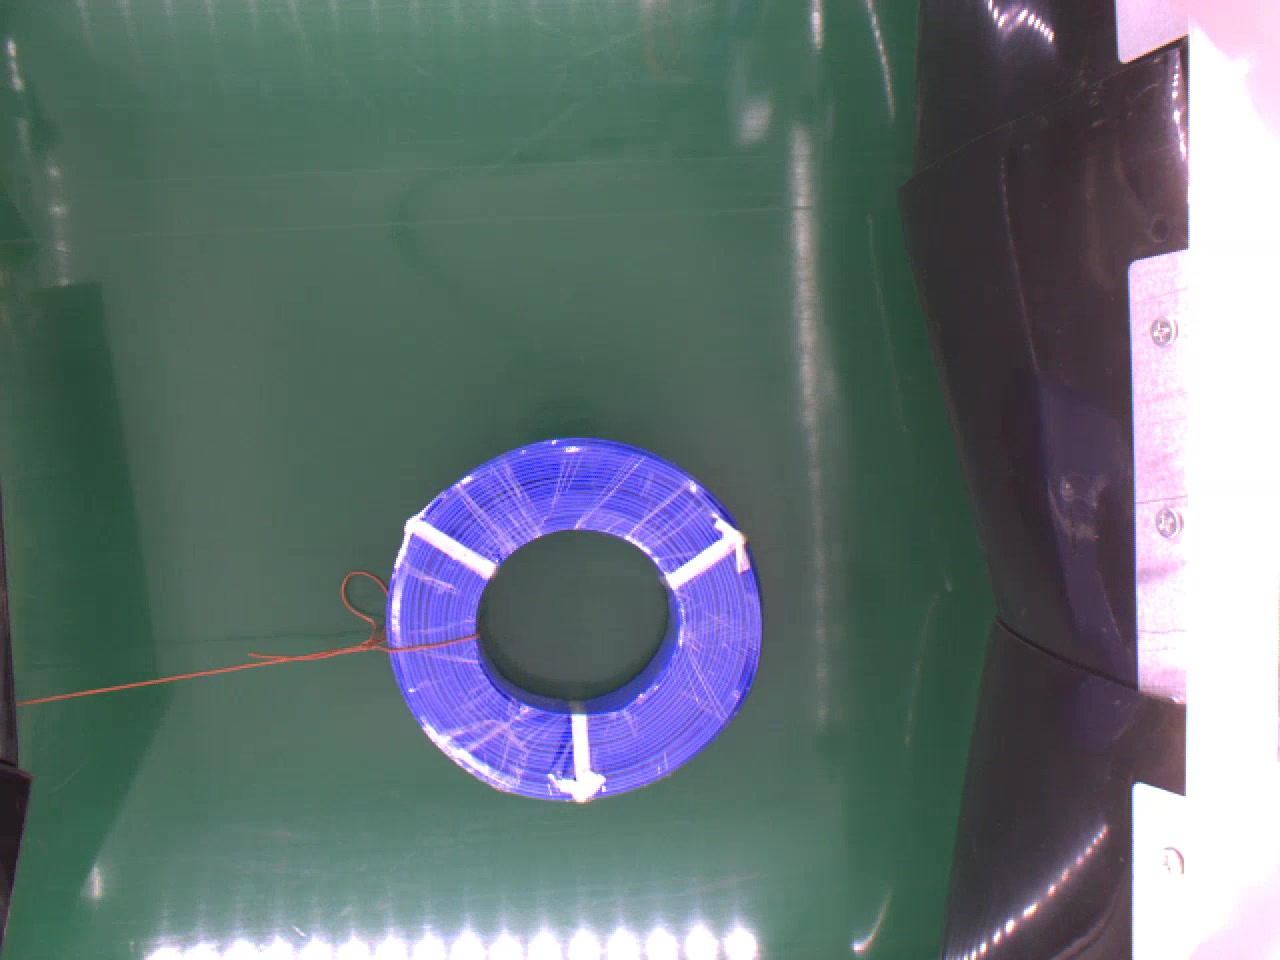blue: (378, 434, 772, 806)
